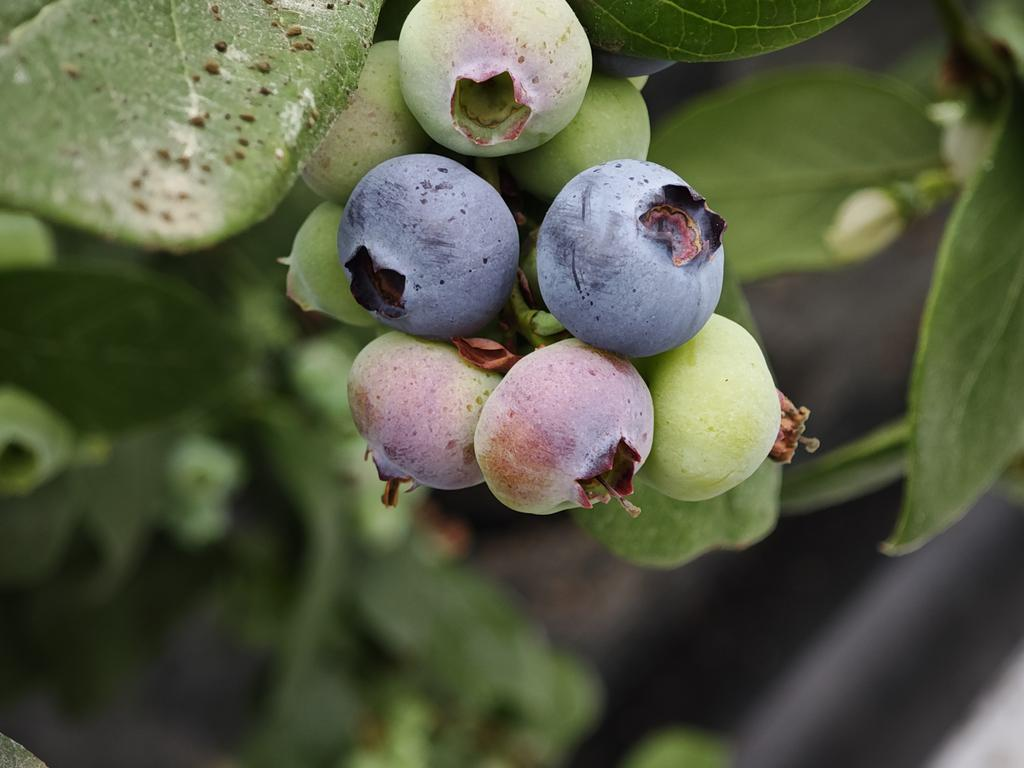RipeBlueBerry: (535, 158, 730, 357), (335, 152, 522, 340)
Semi-RipeBlueBerry: (470, 339, 657, 517), (345, 334, 502, 494)
